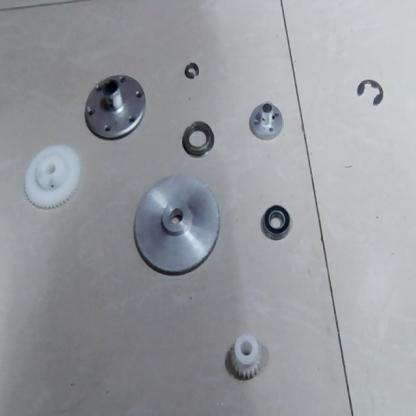FOD: (127, 172, 227, 284), (81, 70, 148, 147), (24, 140, 82, 210), (247, 99, 288, 145), (176, 116, 217, 159), (230, 335, 266, 382), (259, 199, 293, 239), (354, 76, 388, 110), (182, 60, 200, 78)
